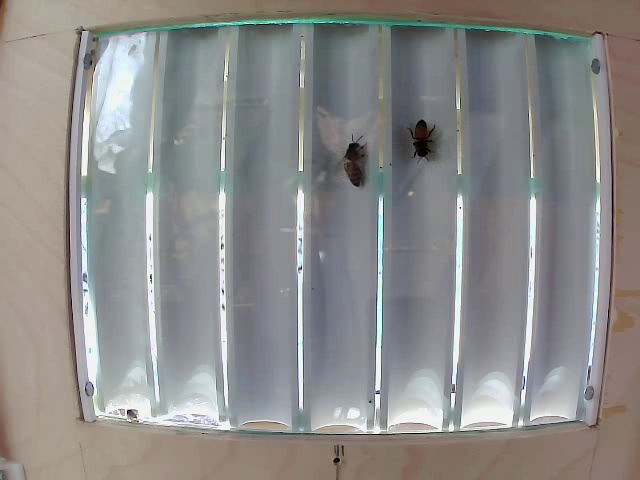bee: (329, 132, 379, 194), (400, 106, 434, 173)
